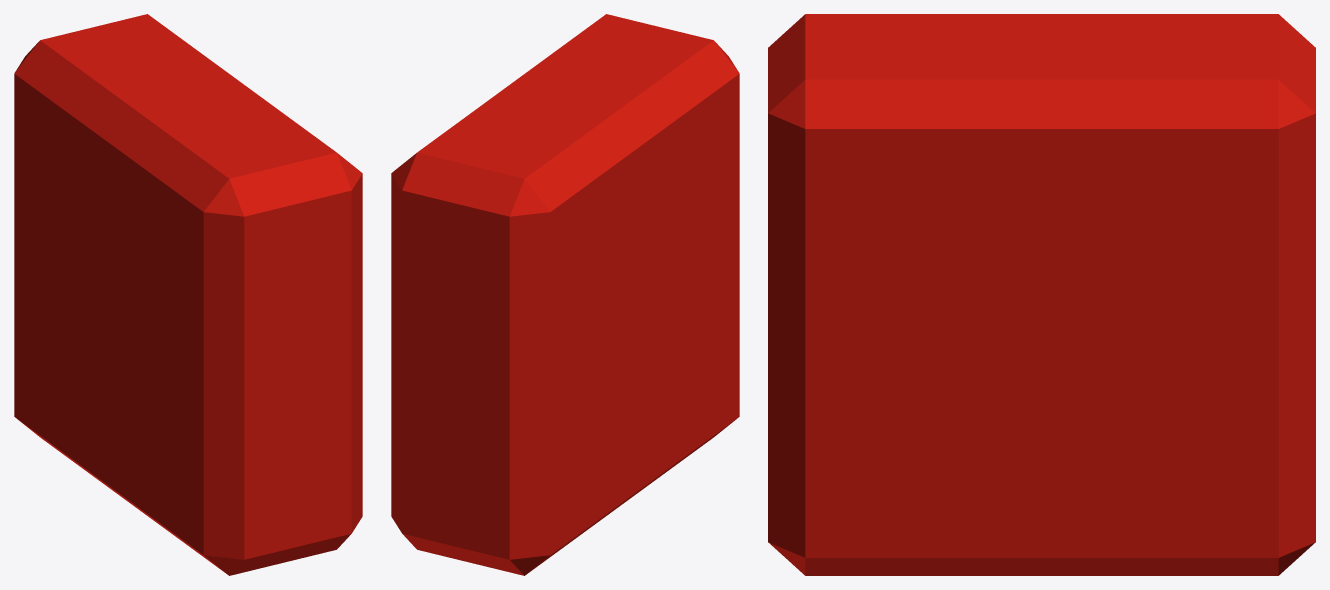
The model's file is Button.gltf.
3 renders of one model, left to right at view 1: azimuth 30°, elevation 25°; view 2: azimuth 150°, elevation 25°; view 3: azimuth 270°, elevation 25°, orthographic. The views are drawn at different scales.
Visible parts, largest first — view 1: Button; view 2: Button; view 3: Button.
Part boxes in pixels (bbox=[...]): Button: bbox=[14, 14, 362, 575]; Button: bbox=[391, 14, 739, 575]; Button: bbox=[768, 14, 1315, 575].
Bounding box in the file's own units: 0.2801 × 0.6678 × 0.6678.
